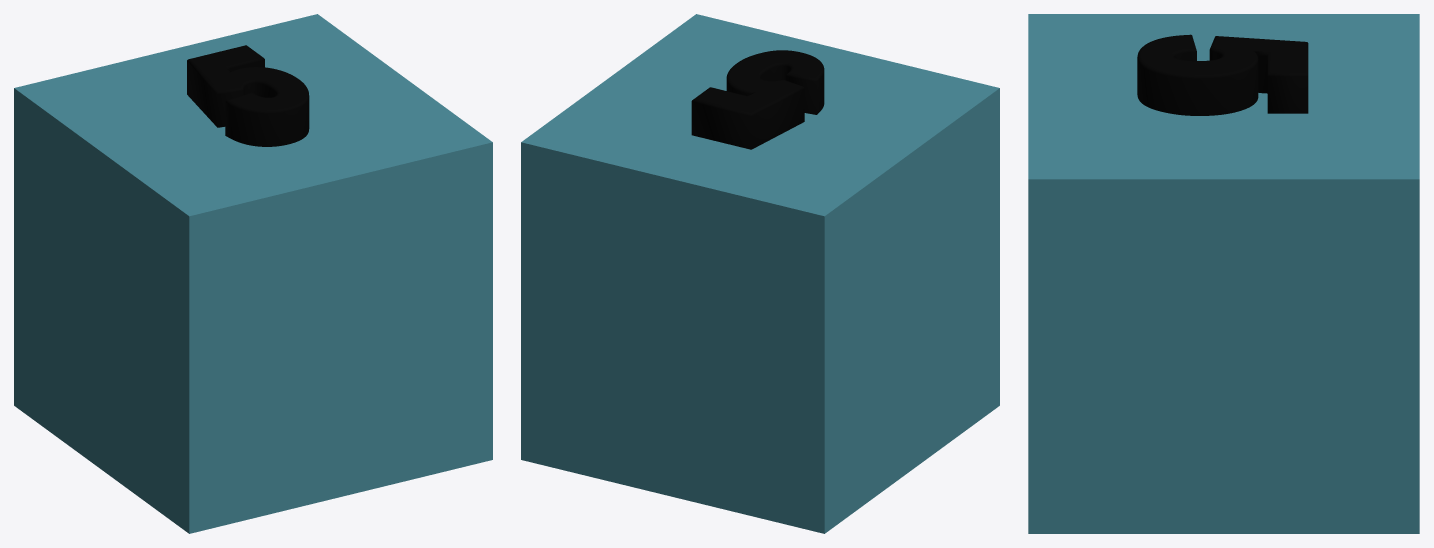
Rendered from level5.fbx.
3 views of the same model, side by side, from view 1: azimuth 30°, elevation 25°; view 2: azimuth 150°, elevation 25°; view 3: azimuth 270°, elevation 25° (orthographic). The views are drawn at different scales.
Visible parts, largest first — view 1: Text; view 2: Text; view 3: Text.
Part boxes in pixels (x1,y1,x2,y2): Text: [14, 14, 492, 533]; Text: [521, 14, 999, 533]; Text: [1028, 14, 1419, 533].
Size of the model in its own units: 200 by 223 by 200.
